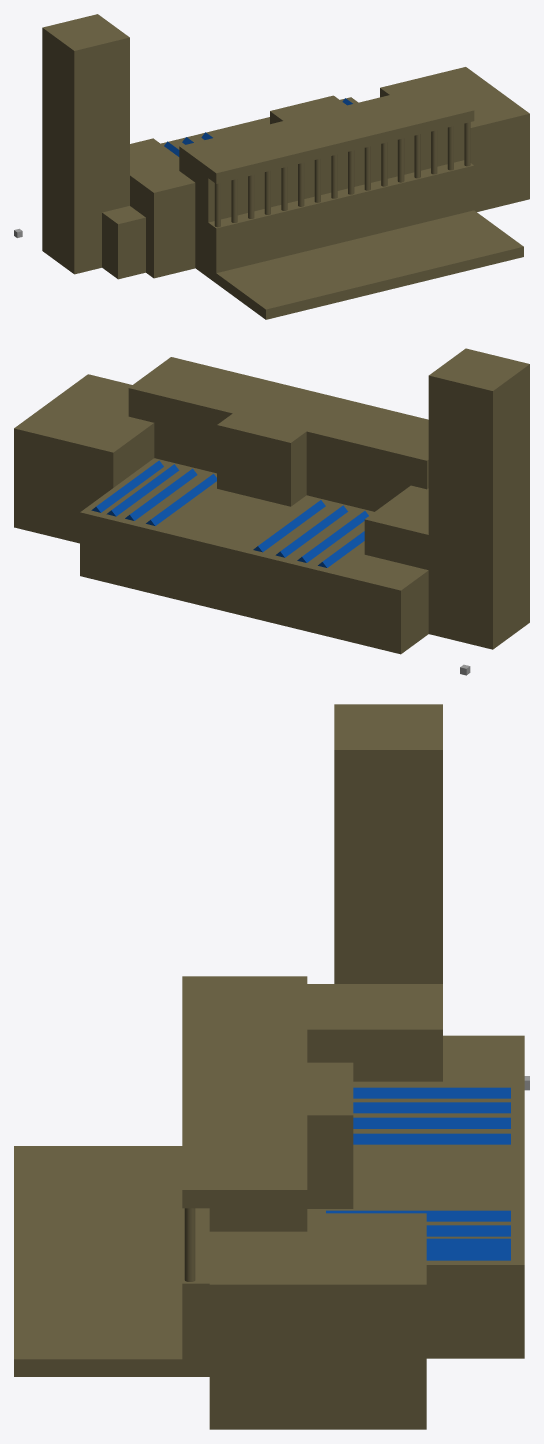
Rendered from hotel_ville.obj.
3 views of the same model, one above another, from view 1: azimuth 30°, elevation 25°; view 2: azimuth 150°, elevation 25°; view 3: azimuth 270°, elevation 25° (orthographic). The views are drawn at different scales.
Parts seen in each view (by area): view 1: hotel_ville; view 2: hotel_ville, Cube.003, Cube.007, Cube.008, Cube.005, Cube.006, Cube.004, Cube.002, Cube.001; view 3: hotel_ville, Cube.001, Cube.002, Cube.003, Cube.006, Cube.004, Cube.005, Cube.008, Cube.007.
Boxes of the visible parts, x1=… form: hotel_ville: x1=42, y1=14, x2=529, y2=319; hotel_ville: x1=14, y1=348, x2=529, y2=654; Cube.003: x1=275, y1=505, x2=347, y2=557; Cube.007: x1=106, y1=464, x2=179, y2=516; Cube.008: x1=91, y1=460, x2=163, y2=512; Cube.005: x1=125, y1=468, x2=197, y2=520; Cube.006: x1=253, y1=500, x2=325, y2=552; Cube.004: x1=146, y1=474, x2=216, y2=525; Cube.002: x1=297, y1=511, x2=368, y2=562; Cube.001: x1=318, y1=531, x2=364, y2=567; hotel_ville: x1=14, y1=704, x2=524, y2=1429; Cube.001: x1=353, y1=1087, x2=510, y2=1098; Cube.002: x1=353, y1=1102, x2=510, y2=1113; Cube.003: x1=353, y1=1117, x2=510, y2=1128; Cube.006: x1=353, y1=1133, x2=510, y2=1144; Cube.004: x1=326, y1=1210, x2=510, y2=1221; Cube.005: x1=426, y1=1225, x2=510, y2=1236; Cube.008: x1=426, y1=1249, x2=510, y2=1260; Cube.007: x1=426, y1=1238, x2=510, y2=1249.
Bounding box in the file's own units: 152 × 78 × 95.
